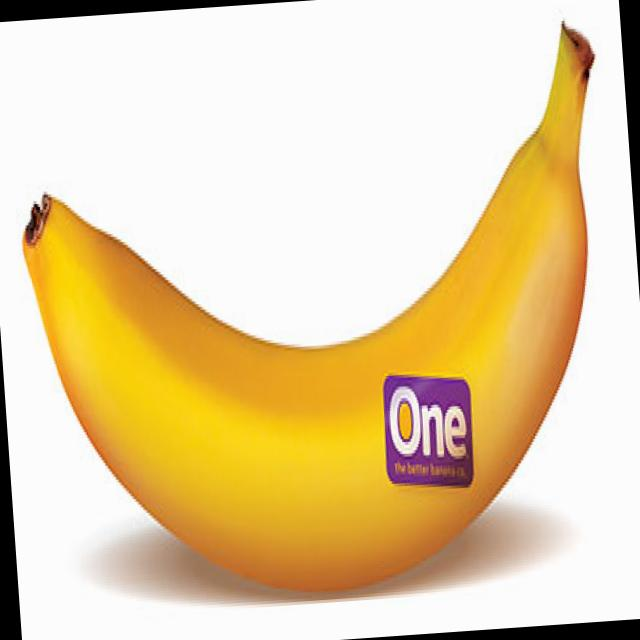banana: (14, 143, 632, 604)
